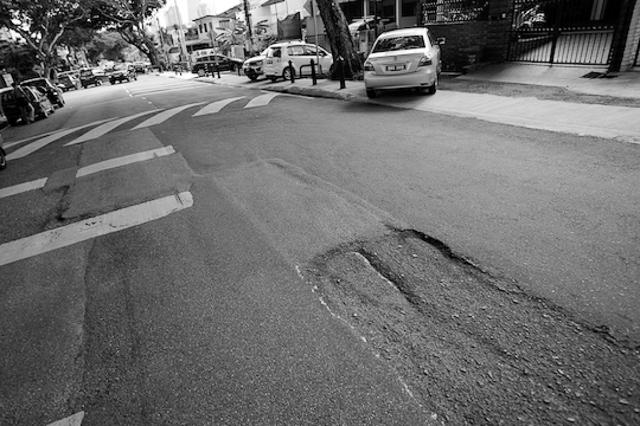Pothole: (303, 224, 639, 426), (40, 188, 90, 230)
